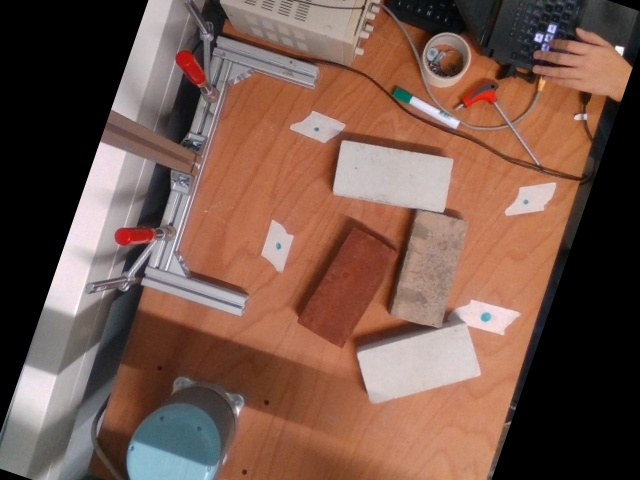brick: (295, 228, 398, 349), (359, 323, 478, 404), (391, 208, 471, 327), (334, 140, 451, 210)
